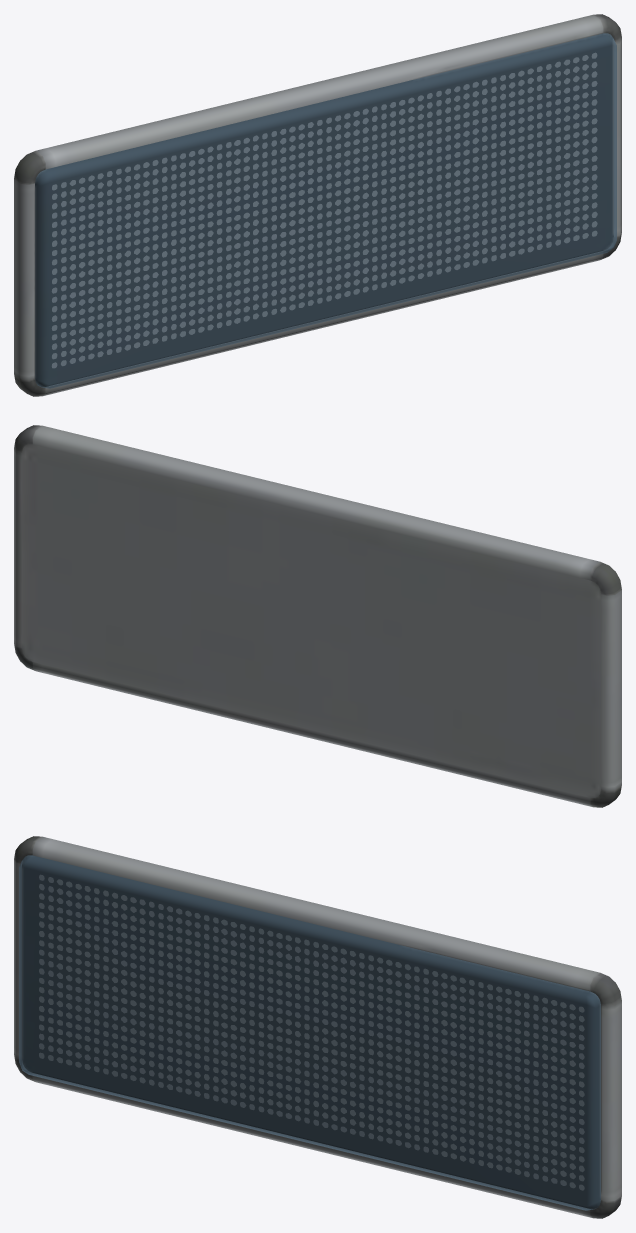
3 renders of one model, top to bottom at view 1: azimuth 30°, elevation 25°; view 2: azimuth 150°, elevation 25°; view 3: azimuth 330°, elevation 25°, orthographic.
Bounding box in the file's own units: 19.65 × 7.51 × 1.1.
Materials: 4 (3 with a texture image).
